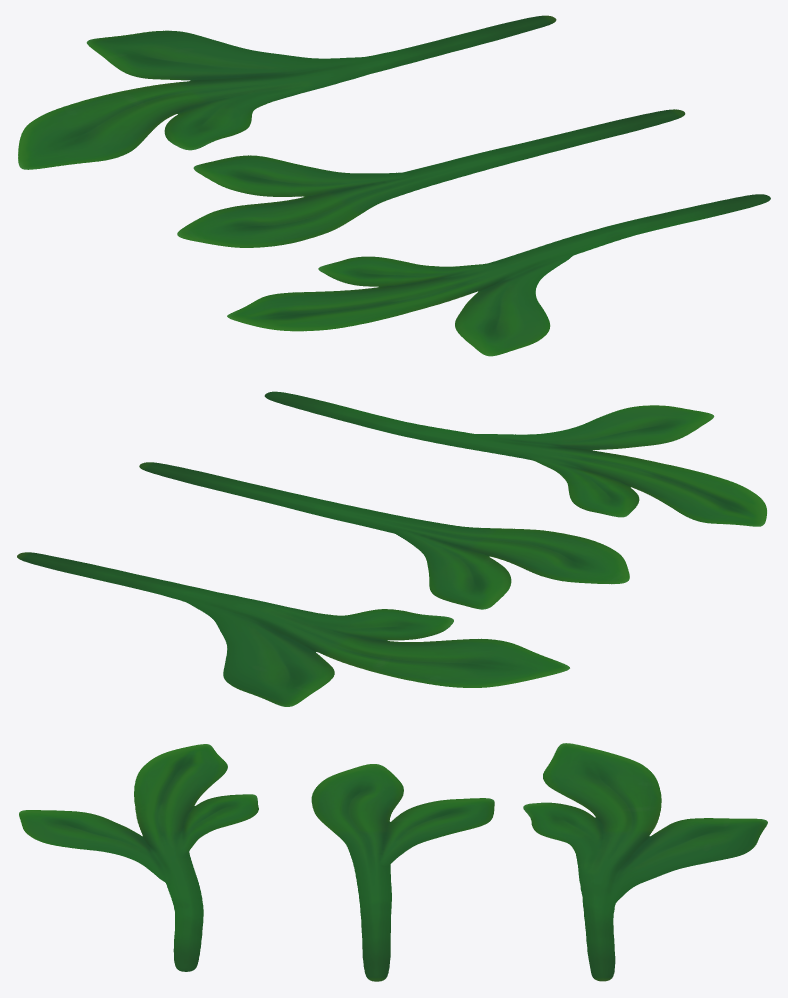
File: LargeGrassTest.fbx
The picture shows the model from 3 angles, top to bottom: view 1: azimuth 30°, elevation 25°; view 2: azimuth 150°, elevation 25°; view 3: azimuth 270°, elevation 25°; orthographic projection. The views are drawn at different scales.
Visible parts, largest first — view 1: Large_Grass03, Large_Grass01, Large_Grass02; view 2: Large_Grass03, Large_Grass01, Large_Grass02; view 3: Large_Grass03, Large_Grass01, Large_Grass02.
Part boxes in pixels (x1,y1,x2,y2): Large_Grass03: (18, 15, 556, 169); Large_Grass01: (227, 194, 770, 356); Large_Grass02: (177, 109, 685, 247); Large_Grass03: (17, 552, 569, 706); Large_Grass01: (264, 391, 766, 526); Large_Grass02: (139, 462, 629, 609); Large_Grass03: (523, 743, 767, 981); Large_Grass01: (19, 744, 258, 971); Large_Grass02: (311, 764, 494, 981).
Bounding box in the file's own units: 0.989 × 3.3e-12 × 1.31.
